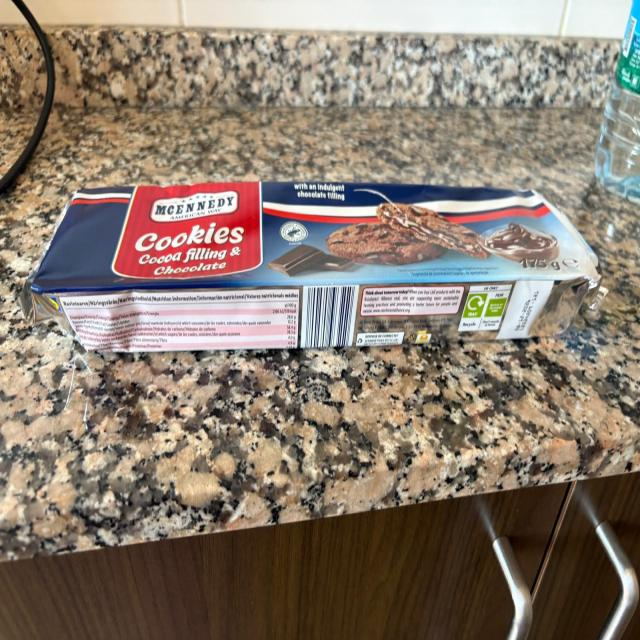good_package: (19, 183, 606, 356)
